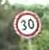limite 30: (11, 9, 42, 38)
